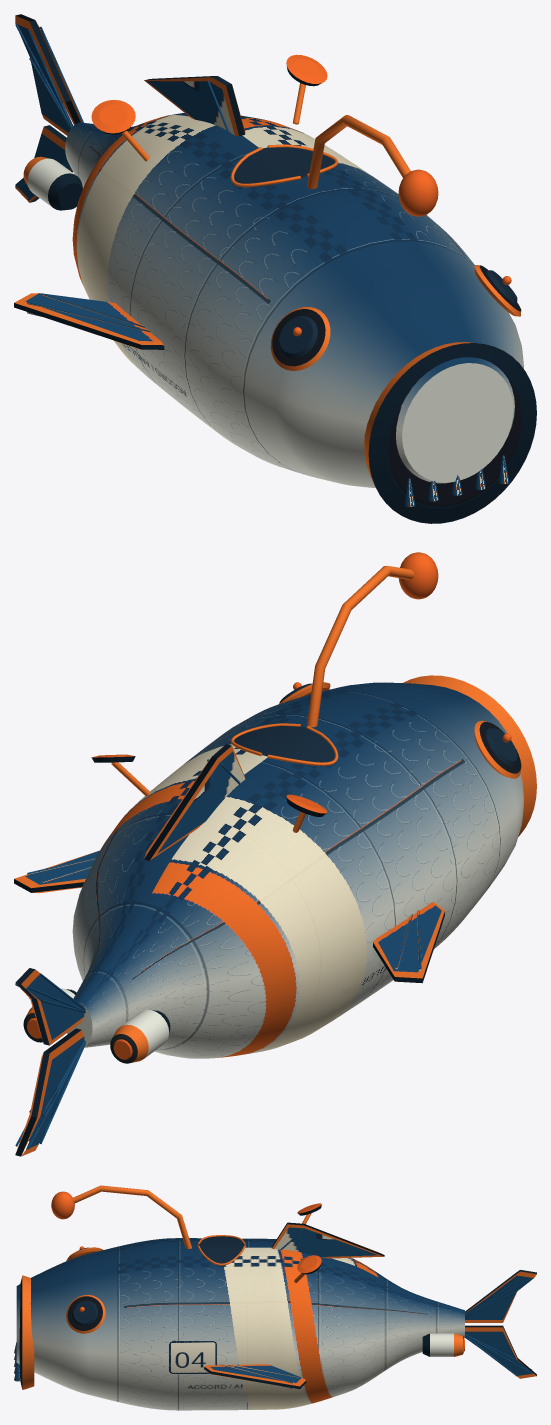
The picture shows the model from 3 angles, top to bottom: view 1: azimuth 30°, elevation 25°; view 2: azimuth 150°, elevation 25°; view 3: azimuth 270°, elevation 25°; orthographic projection. The views are drawn at different scales.
Parts seen in each view (by area): view 1: anglerfish_hull; view 2: anglerfish_hull; view 3: anglerfish_hull.
Part boxes in pixels (bbox=[...]): anglerfish_hull: bbox=[14, 14, 536, 523]; anglerfish_hull: bbox=[14, 552, 536, 1156]; anglerfish_hull: bbox=[14, 1185, 536, 1410].
Bounding box in the file's own units: 9.08 × 7.72 × 17.
Materials: 1 (1 with a texture image).
